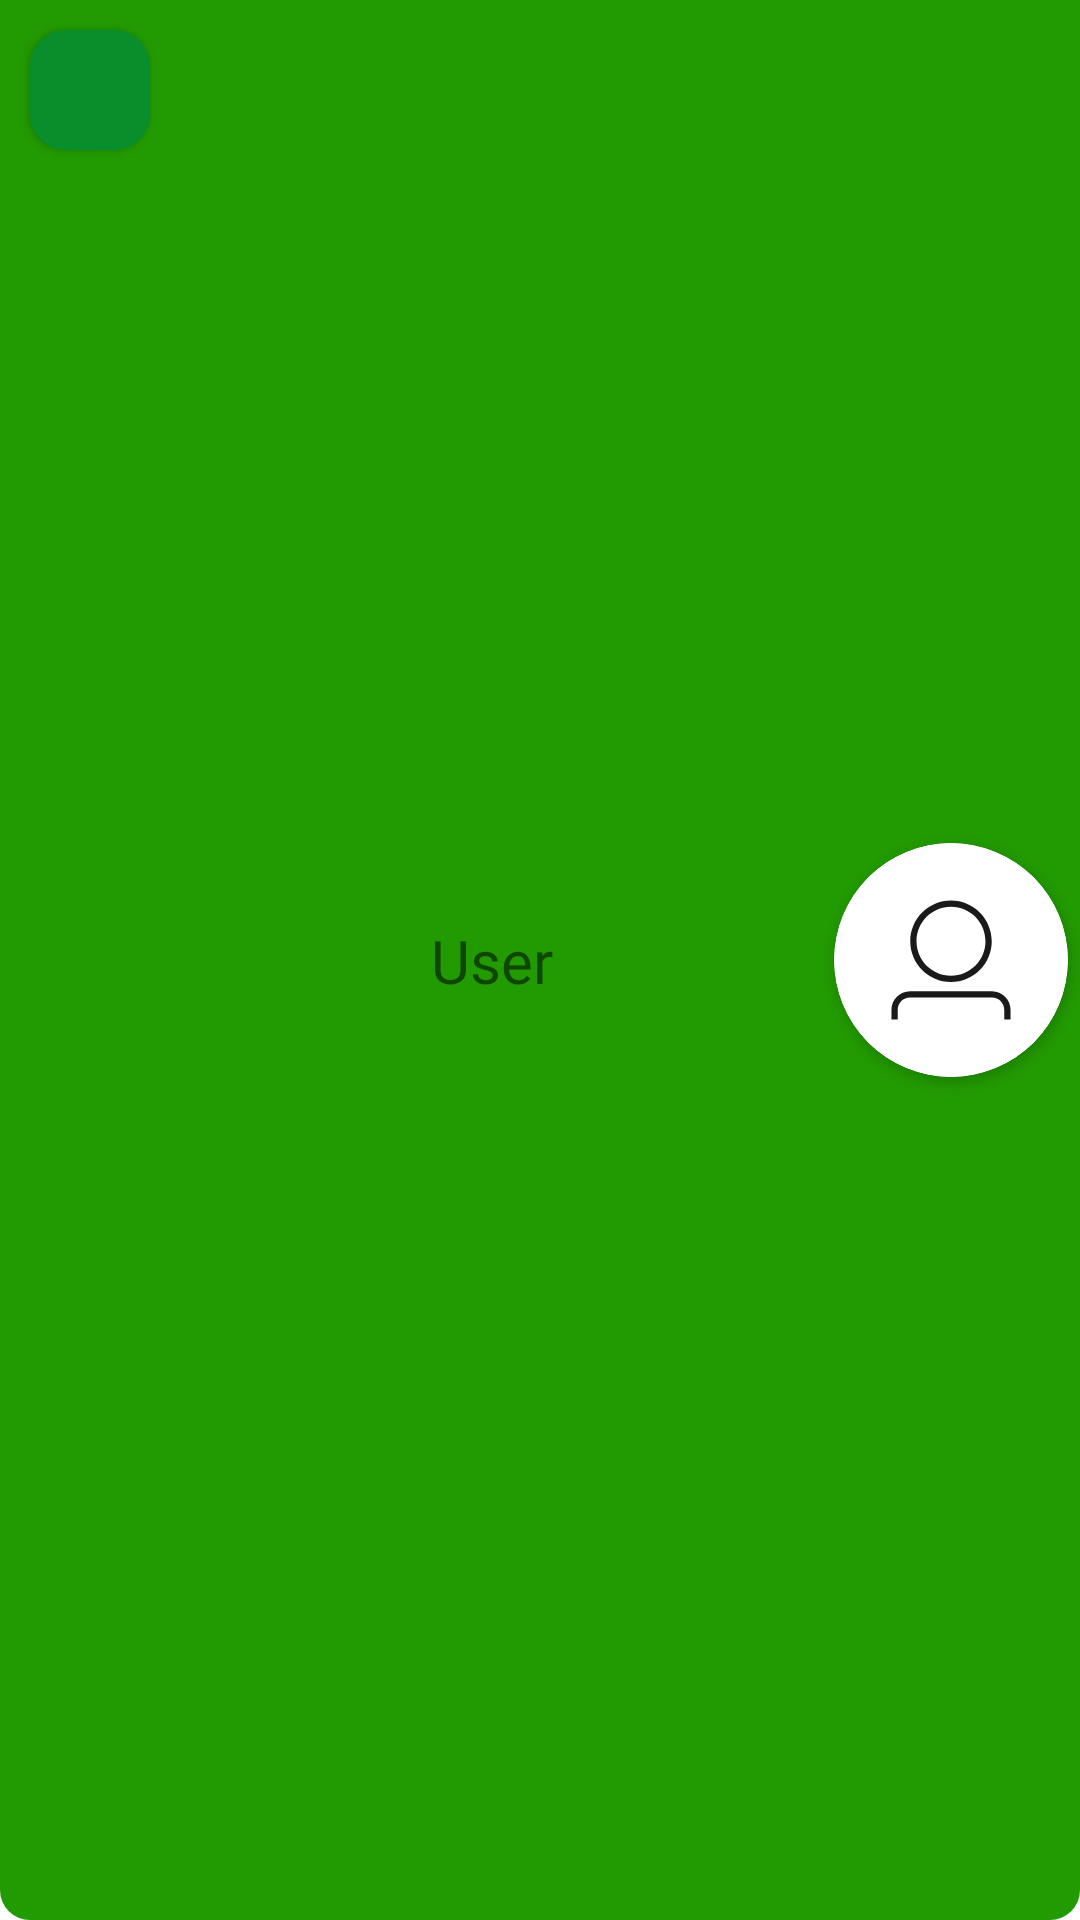

Locate icon controls on the screen. Image size 1080px×1920px, boxes as detection(x1, y1, x2, y2).
user: detection(834, 843, 1068, 1077)
